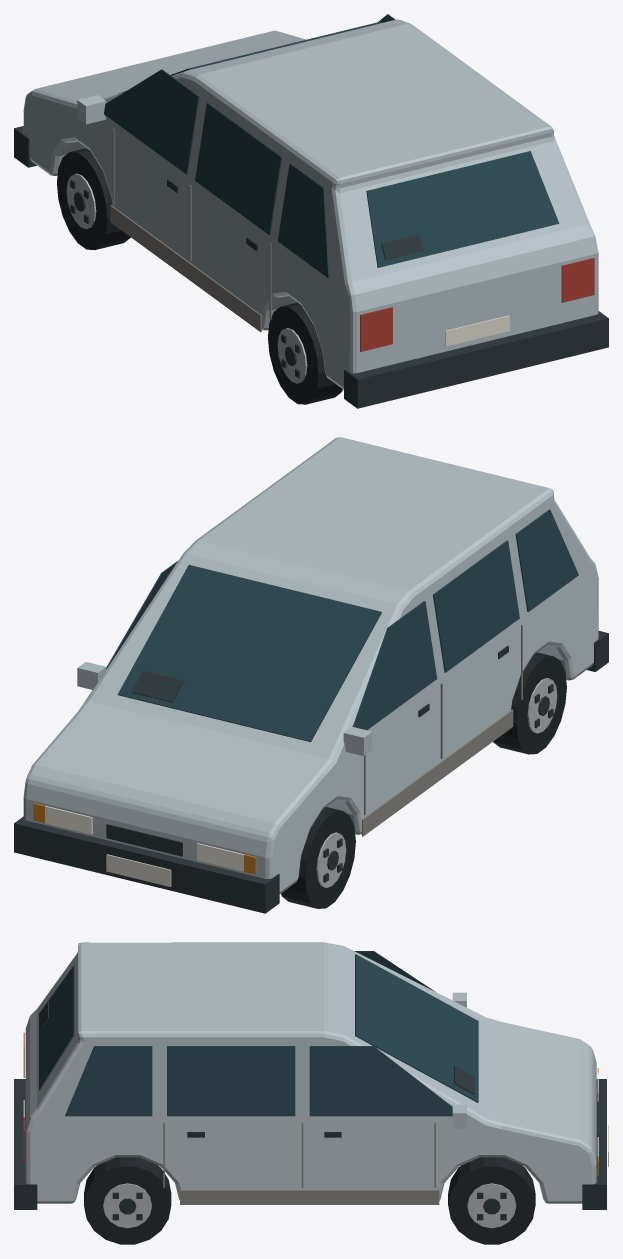
The model's file is uber_car.glb.
3 views of the same model, one above another, from view 1: azimuth 30°, elevation 25°; view 2: azimuth 150°, elevation 25°; view 3: azimuth 270°, elevation 25° (orthographic). The views are drawn at different scales.
Visible parts, largest first — view 1: Body, Details, WheelBackLeft, WheelFrontLeft; view 2: Body, Details, WheelFrontLeft, WheelBackLeft; view 3: Body, Details, WheelFrontRight, WheelBackRight.
Part boxes in pixels (<box>): Body: <box>23,19,598,389</box>; Details: <box>14,14,608,408</box>; WheelBackLeft: <box>268,302,342,404</box>; WheelFrontLeft: <box>57,148,130,250</box>; Body: <box>23,437,598,893</box>; Details: <box>14,509,608,913</box>; WheelFrontLeft: <box>281,807,355,908</box>; WheelBackLeft: <box>493,652,566,754</box>; Body: <box>25,942,596,1203</box>; Details: <box>14,951,608,1209</box>; WheelFrontRight: <box>448,1157,535,1244</box>; WheelBackRight: <box>84,1157,171,1244</box>.
Size of the model in its own units: 1.96 by 1.56 by 4.08.
